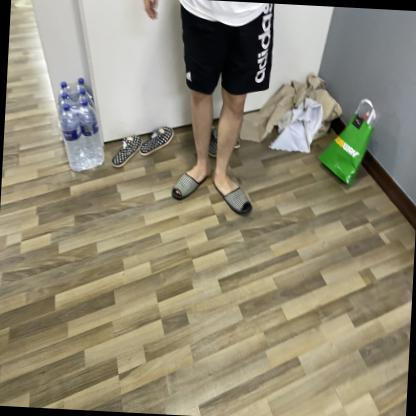no_safety-shoe: (209, 168, 259, 224), (168, 159, 209, 207)
